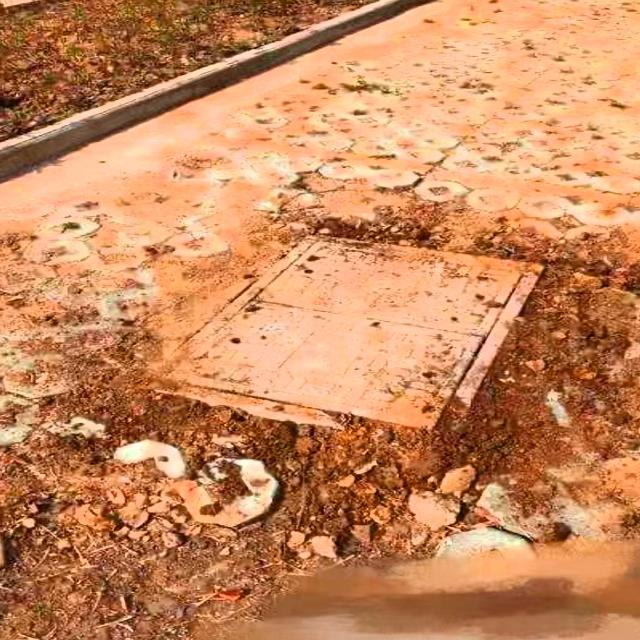circle: (111, 229, 580, 467)
